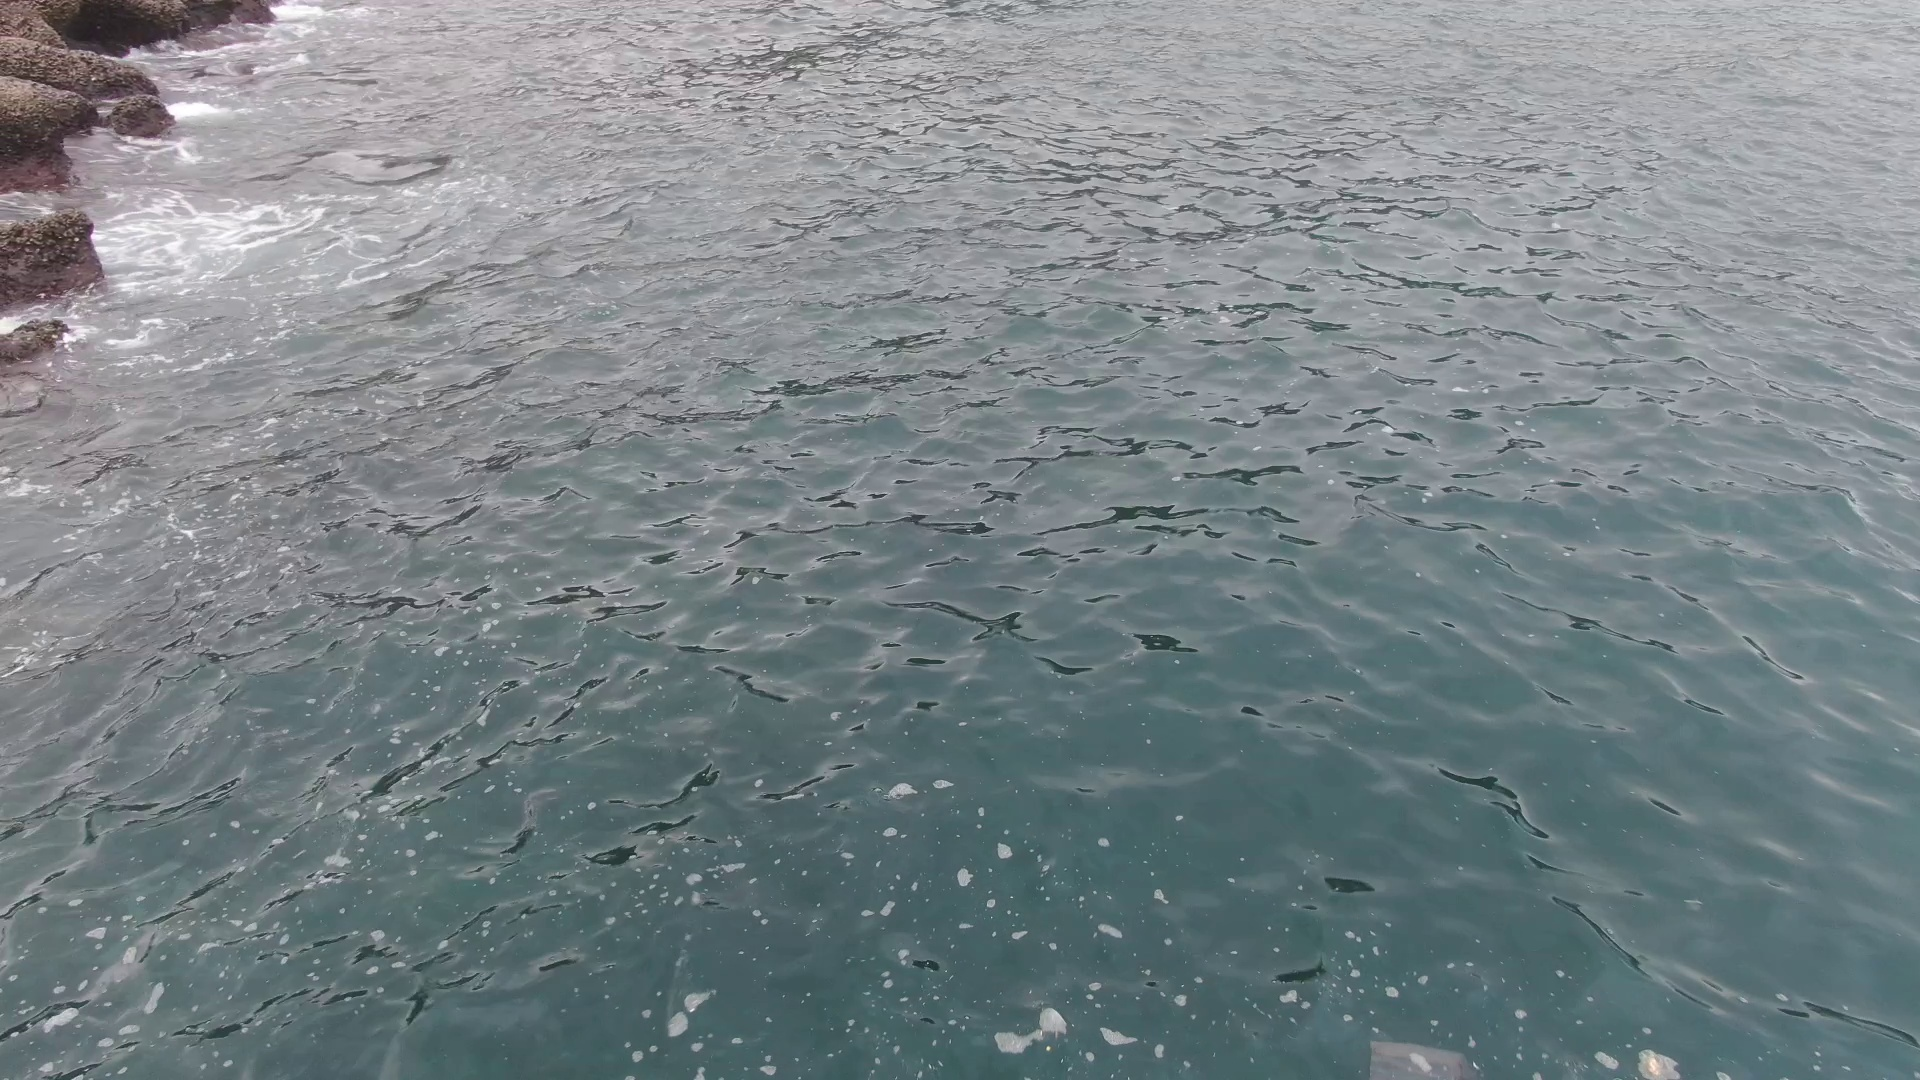garbage: (1365, 1035, 1462, 1080), (1635, 1050, 1680, 1080)
